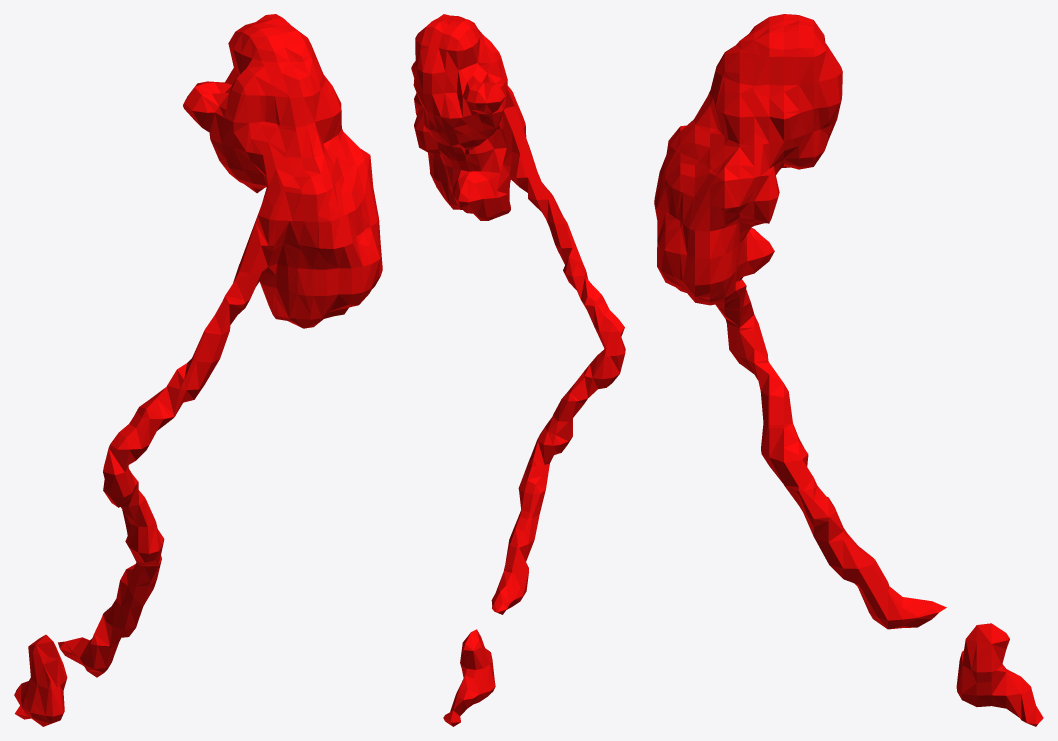
The model's file is thiI_coarse.dae.
3 renders of one model, left to right at view 1: azimuth 30°, elevation 25°; view 2: azimuth 150°, elevation 25°; view 3: azimuth 270°, elevation 25°, orthographic. The views are drawn at different scales.
Parts seen in each view (by area): view 1: thiI; view 2: thiI; view 3: thiI.
Boxes of the visible parts, box(x1,y1,x2,y2) form: thiI: box(14, 14, 382, 726); thiI: box(411, 14, 625, 726); thiI: box(654, 14, 1043, 726).
Bounding box in the file's own units: 93.19 × 256 × 118.
